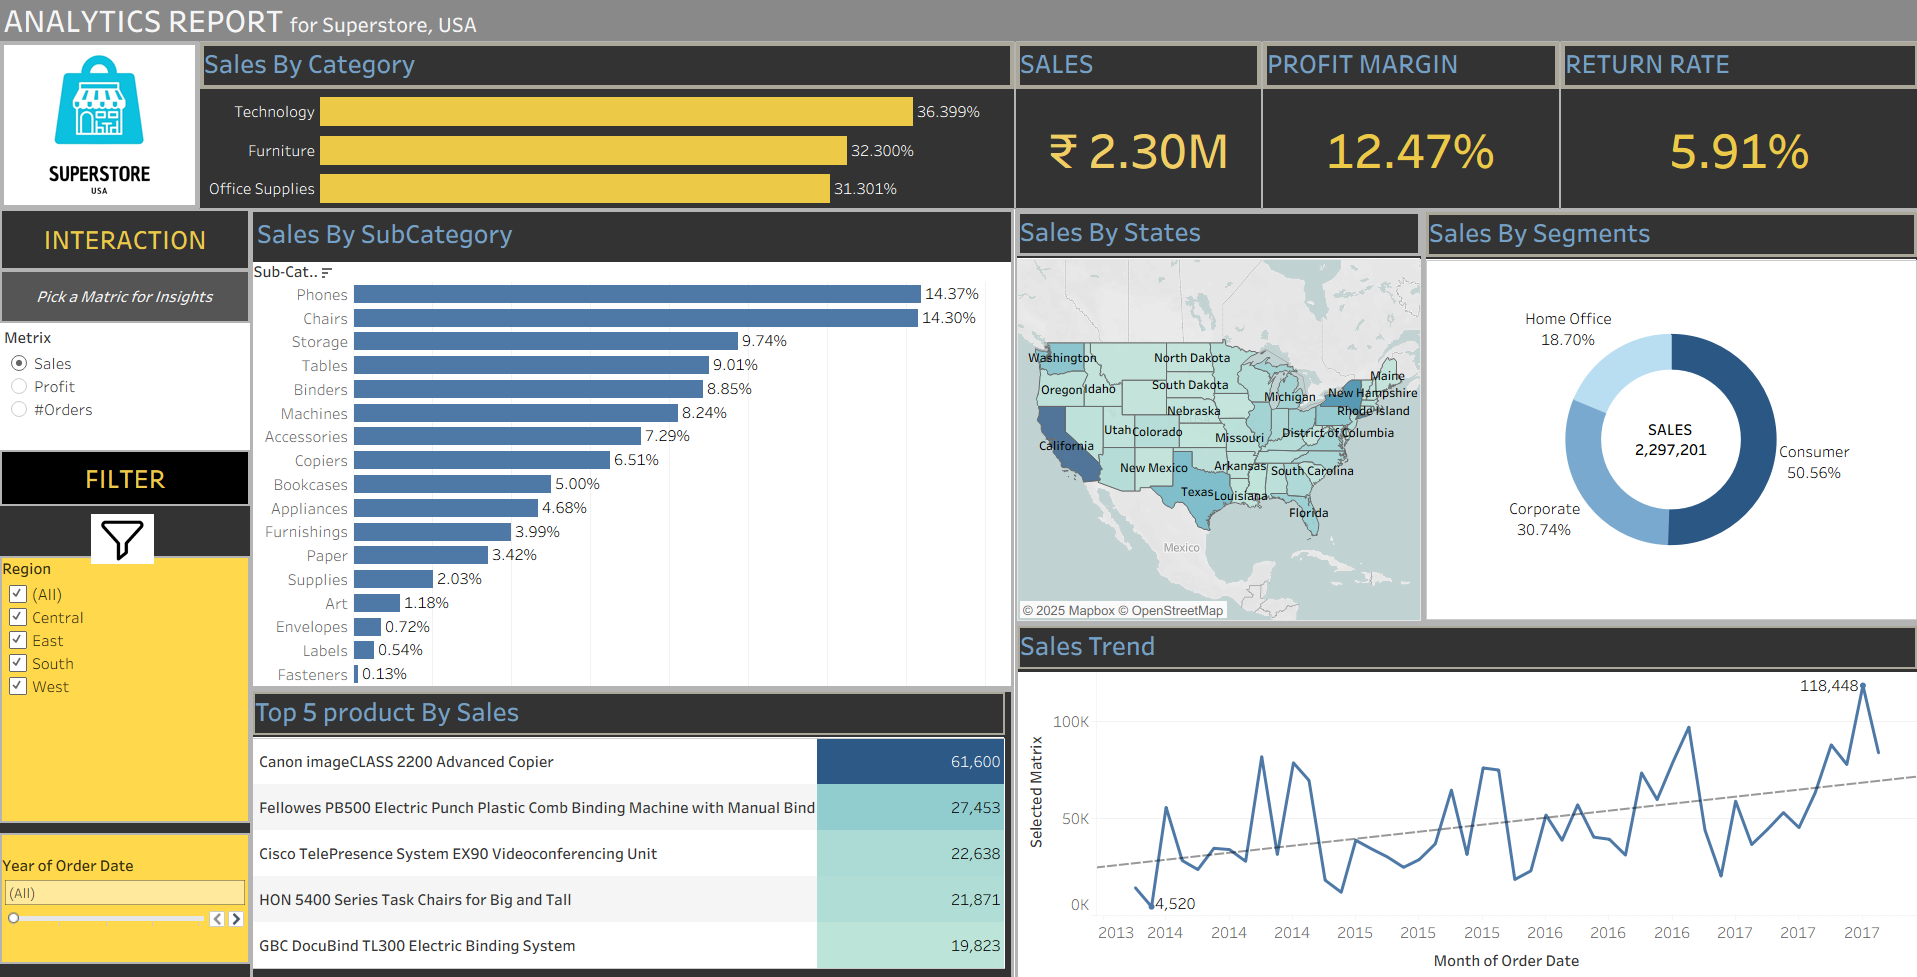

This screenshot's page, from the dashboard's own definition file:
{"tool":"tableau","page":{"name":"ANALYTICS REPORT","canvas":[1000,1000],"units":"permille","ordinal":0},"visuals":[{"type":"title","box":[0,0,1000,51.8]},{"type":"image","param":"Image/Company Logo.jpg","box":[0,51.8,103.5,167.7]},{"type":"worksheet","title":"Sales By Category","mark":"Automatic","rows":["Category"],"cols":["Calculation_1098033917273587725"],"box":[103.5,51.8,425,167.7]},{"type":"worksheet","title":"Sales KPI","mark":"Automatic","box":[528.5,51.8,128.6,167.7]},{"type":"worksheet","title":"Profit KPI","mark":"Automatic","box":[657.1,51.8,155.4,167.7]},{"type":"worksheet","title":"Return Rate KPI","mark":"Automatic","box":[812.5,51.8,187.5,167.7]},{"type":"text","box":[0,219.5,130.4,60.4]},{"type":"worksheet","title":"Sales By SubCategory","mark":"Automatic","rows":["Sub-Category"],"cols":["Calculation_1098033917273587725"],"box":[130.4,219.5,398.1,478.4]},{"type":"worksheet","title":"Sales By States","mark":"Automatic","box":[528.5,219.5,212.5,413.1]},{"type":"worksheet","title":"Sales By Segments","mark":"Pie","rows":["Calculation_1098033917221183489","Calculation_1098033917221183489"],"box":[741,219.5,259,413.1]},{"type":"text","box":[0,279.9,130.4,53]},{"type":"parameter","param":"[Parameters].[Parameter 1]","box":[0,332.9,130.4,127]},{"type":"text","box":[0,459.9,130.4,55.5]},{"type":"filter","title":"Top 5 product By Sales","param":"[federated.1xti0ql0gagh4912idx9i01adtkv].[none:Region:nk]","box":[0,515.4,130.4,298.4]},{"type":"dashboard-object","box":[47.1,519.1,33.1,50.6]},{"type":"worksheet","title":"Sales Trend","mark":"Automatic","rows":["Calculation_1098033917273587725"],"cols":["Order Date"],"box":[528.5,632.6,471.5,367.4]},{"type":"worksheet","title":"Top 5 product By Sales","mark":"Square","rows":["Product Name"],"box":[130.4,697.9,398.1,302.1]},{"type":"filter","title":"Sales Trend","param":"[federated.1xti0ql0gagh4912idx9i01adtkv].[yr:Order Date:ok]","box":[0,813.8,130.4,186.2]}]}

Visuals, with their boxes on the dashboard's canvas, which has no fixed pixel size, in thousandths of its width and height (x1, y1, x2, y2). These are canvas units, not pixel positions in the 1917x977 screenshot, which may show the page scaled, cropped or inside an application window:
title: (0, 0, 1000, 52)
image: (0, 52, 104, 220)
"Sales By Category" worksheet: (104, 52, 528, 220)
"Sales KPI" worksheet: (528, 52, 657, 220)
"Profit KPI" worksheet: (657, 52, 812, 220)
"Return Rate KPI" worksheet: (812, 52, 1000, 220)
text: (0, 220, 130, 280)
"Sales By SubCategory" worksheet: (130, 220, 528, 698)
"Sales By States" worksheet: (528, 220, 741, 633)
"Sales By Segments" worksheet (Pie marks): (741, 220, 1000, 633)
text: (0, 280, 130, 333)
parameter: (0, 333, 130, 460)
text: (0, 460, 130, 515)
"Top 5 product By Sales" filter: (0, 515, 130, 814)
dashboard-object: (47, 519, 80, 570)
"Sales Trend" worksheet: (528, 633, 1000, 1000)
"Top 5 product By Sales" worksheet (Square marks): (130, 698, 528, 1000)
"Sales Trend" filter: (0, 814, 130, 1000)
